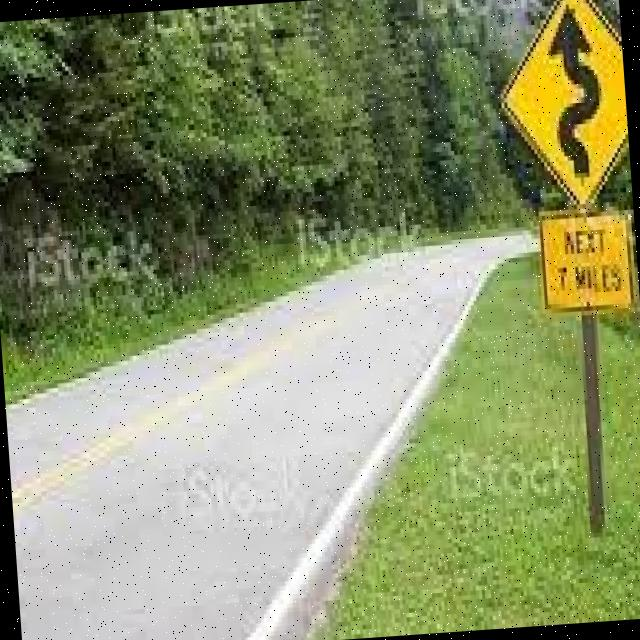left_sharp_curve: (486, 0, 633, 218)
